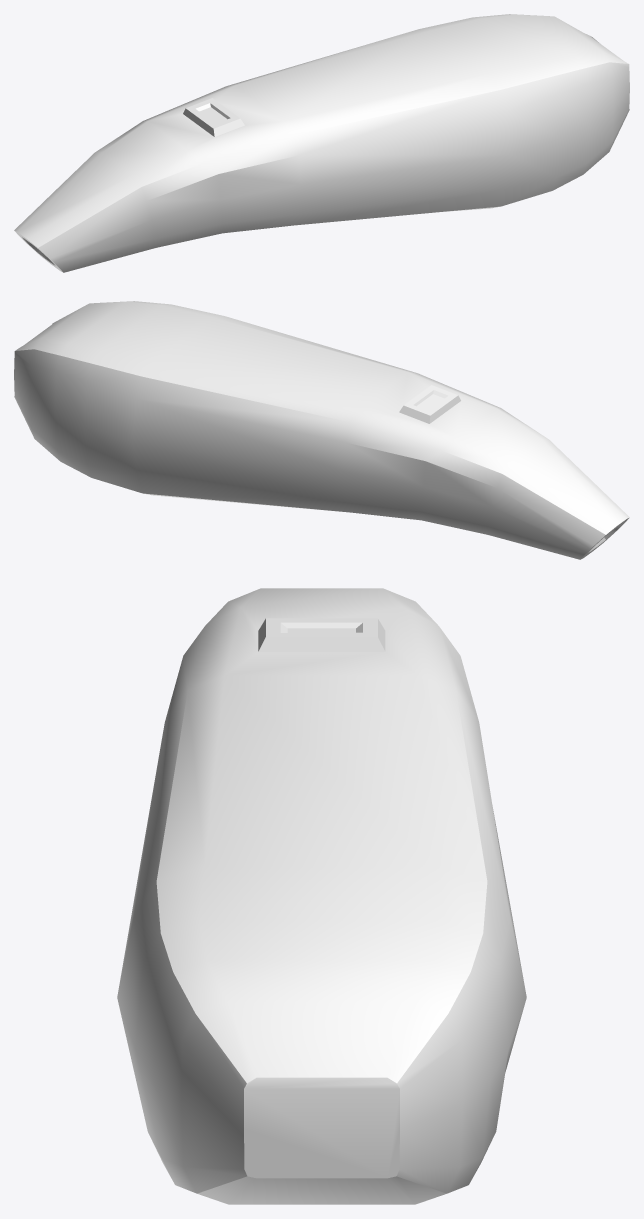
File: scanner.fbx
3 views of the same model, one above another, from view 1: azimuth 30°, elevation 25°; view 2: azimuth 150°, elevation 25°; view 3: azimuth 270°, elevation 25° (orthographic). The views are drawn at different scales.
Parts seen in each view (by area): view 1: scanner; view 2: scanner; view 3: scanner.
Part boxes in pixels (x1,y1,x2,y2): scanner: [14, 14, 629, 272]; scanner: [14, 301, 629, 559]; scanner: [117, 588, 526, 1204].
Size of the model in its own units: 607 by 132 by 183.
